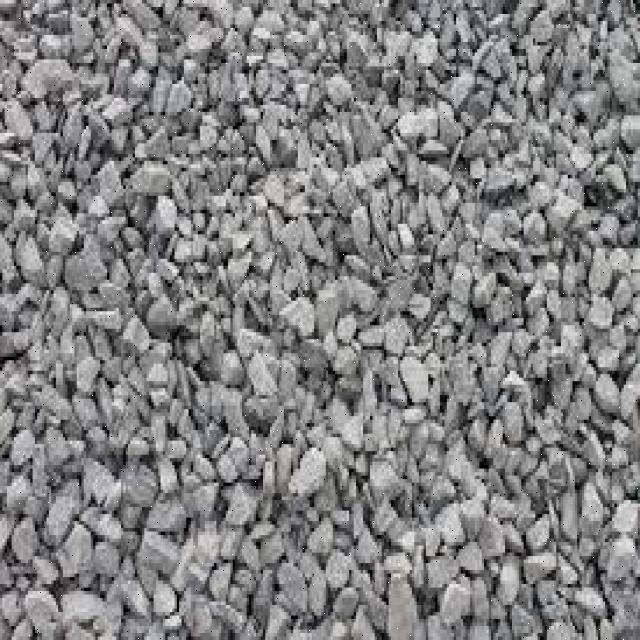Metamorphic: (2, 14, 624, 636)
